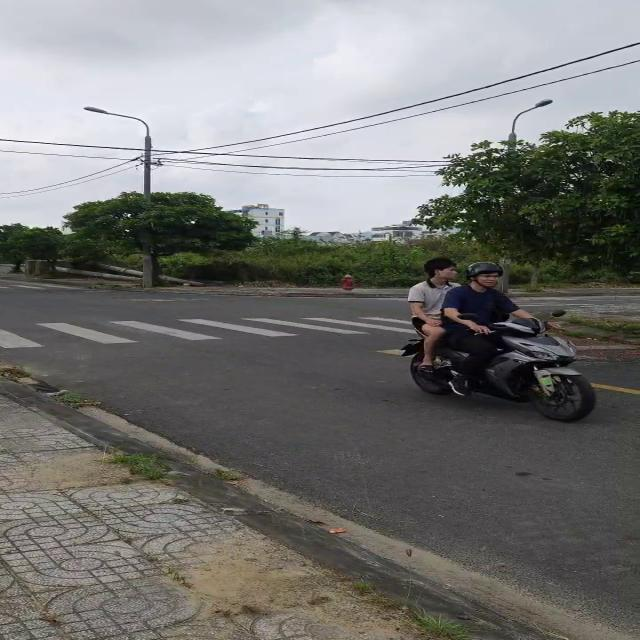helmet: (466, 262, 505, 282)
no_helmet: (424, 259, 458, 277)
